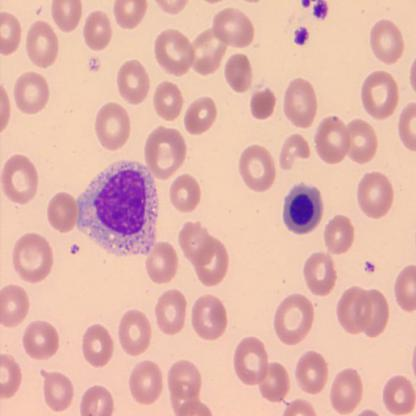NRC: (282, 181, 323, 236)
